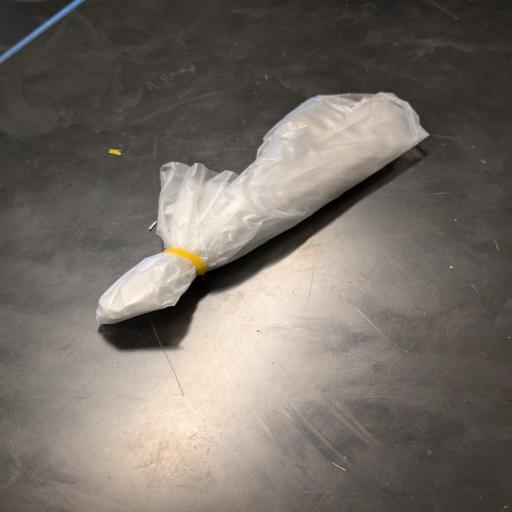rubberband: (92, 85, 435, 331)
